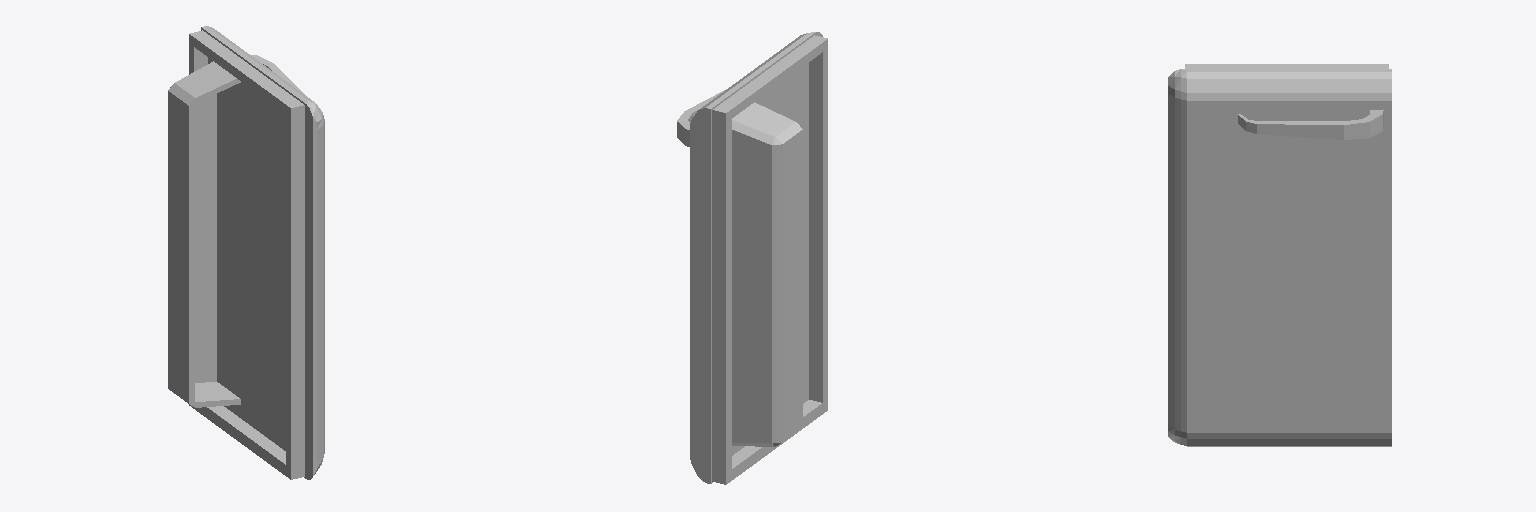
The model's file is refrigeratordoor2.obj.
3 views of the same model, side by side, from view 1: azimuth 30°, elevation 25°; view 2: azimuth 150°, elevation 25°; view 3: azimuth 270°, elevation 25° (orthographic).
Parts seen in each view (by area): view 1: refrigeratordoor2; view 2: refrigeratordoor2; view 3: refrigeratordoor2.
Boxes of the visible parts, x1,y1,x2,y2 form: refrigeratordoor2: [168, 26, 324, 479]; refrigeratordoor2: [677, 32, 827, 484]; refrigeratordoor2: [1168, 64, 1391, 446].
Size of the model in its own units: 9.22 by 32.25 by 17.48.